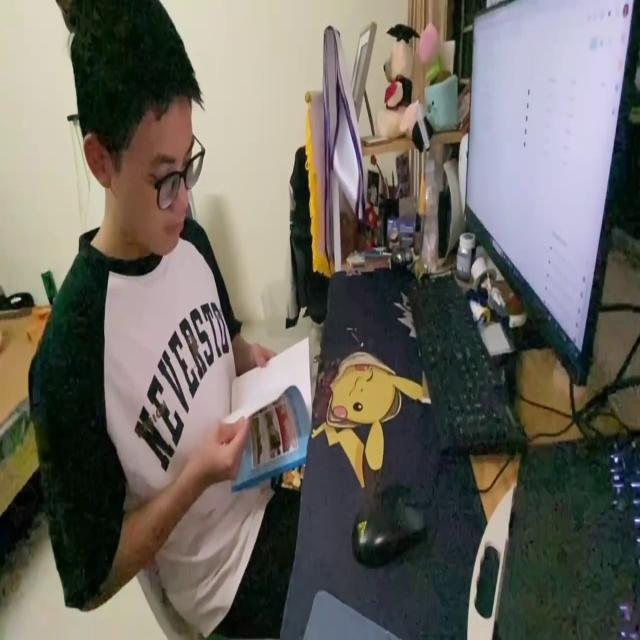book: (210, 331, 314, 492)
laptop: (460, 0, 640, 390)
student: (26, 0, 298, 640)
